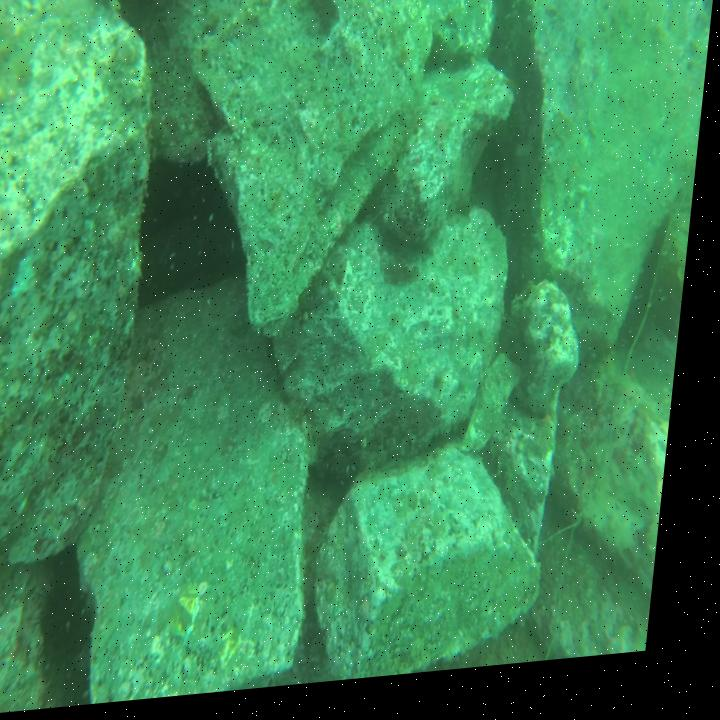echinus: (38, 577, 121, 665)
